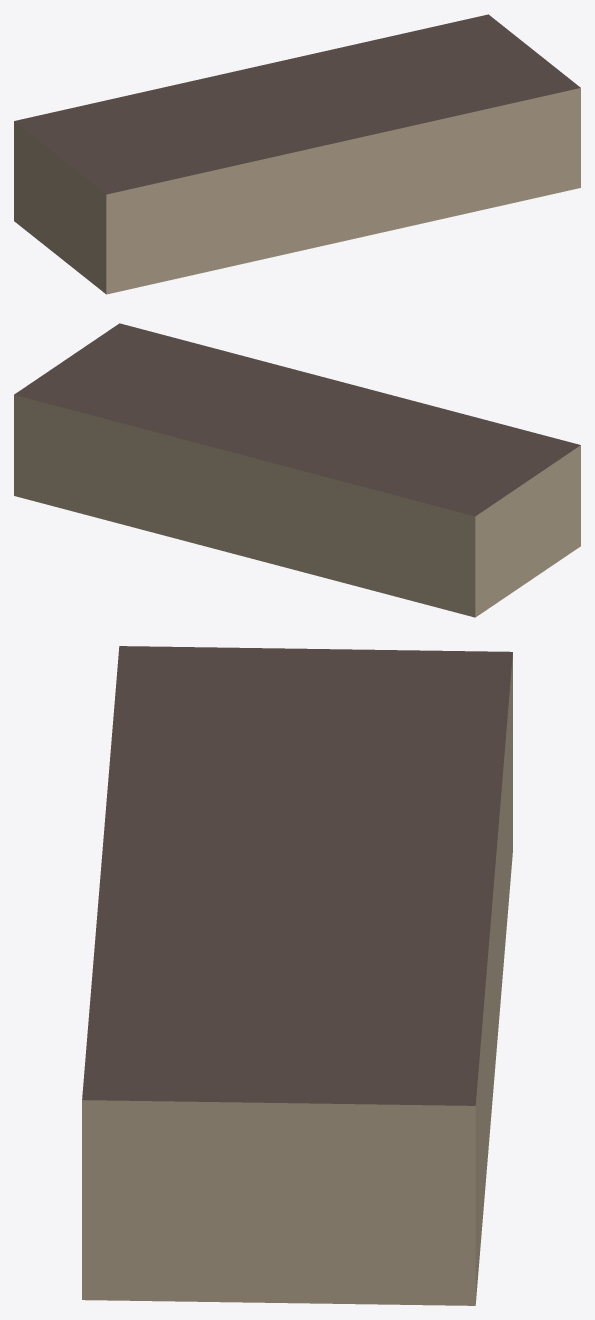
The picture shows the model from 3 angles, top to bottom: view 1: azimuth 30°, elevation 25°; view 2: azimuth 150°, elevation 25°; view 3: azimuth 270°, elevation 25°; orthographic projection. The views are drawn at different scales.
Parts seen in each view (by area): view 1: HP-w1286965542; view 2: HP-w1286965542; view 3: HP-w1286965542.
Boxes of the visible parts, x1,y1,x2,y2 form: HP-w1286965542: [14, 14, 580, 294]; HP-w1286965542: [14, 323, 580, 617]; HP-w1286965542: [82, 646, 512, 1305].
Bounding box in the file's own units: 44.38 × 9 × 17.57.
